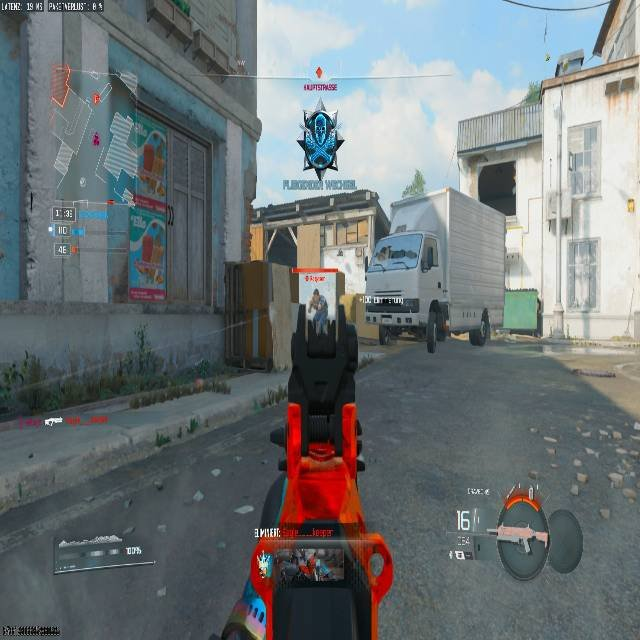head: (312, 288, 320, 297)
player: (297, 107, 344, 178), (307, 289, 328, 336)
